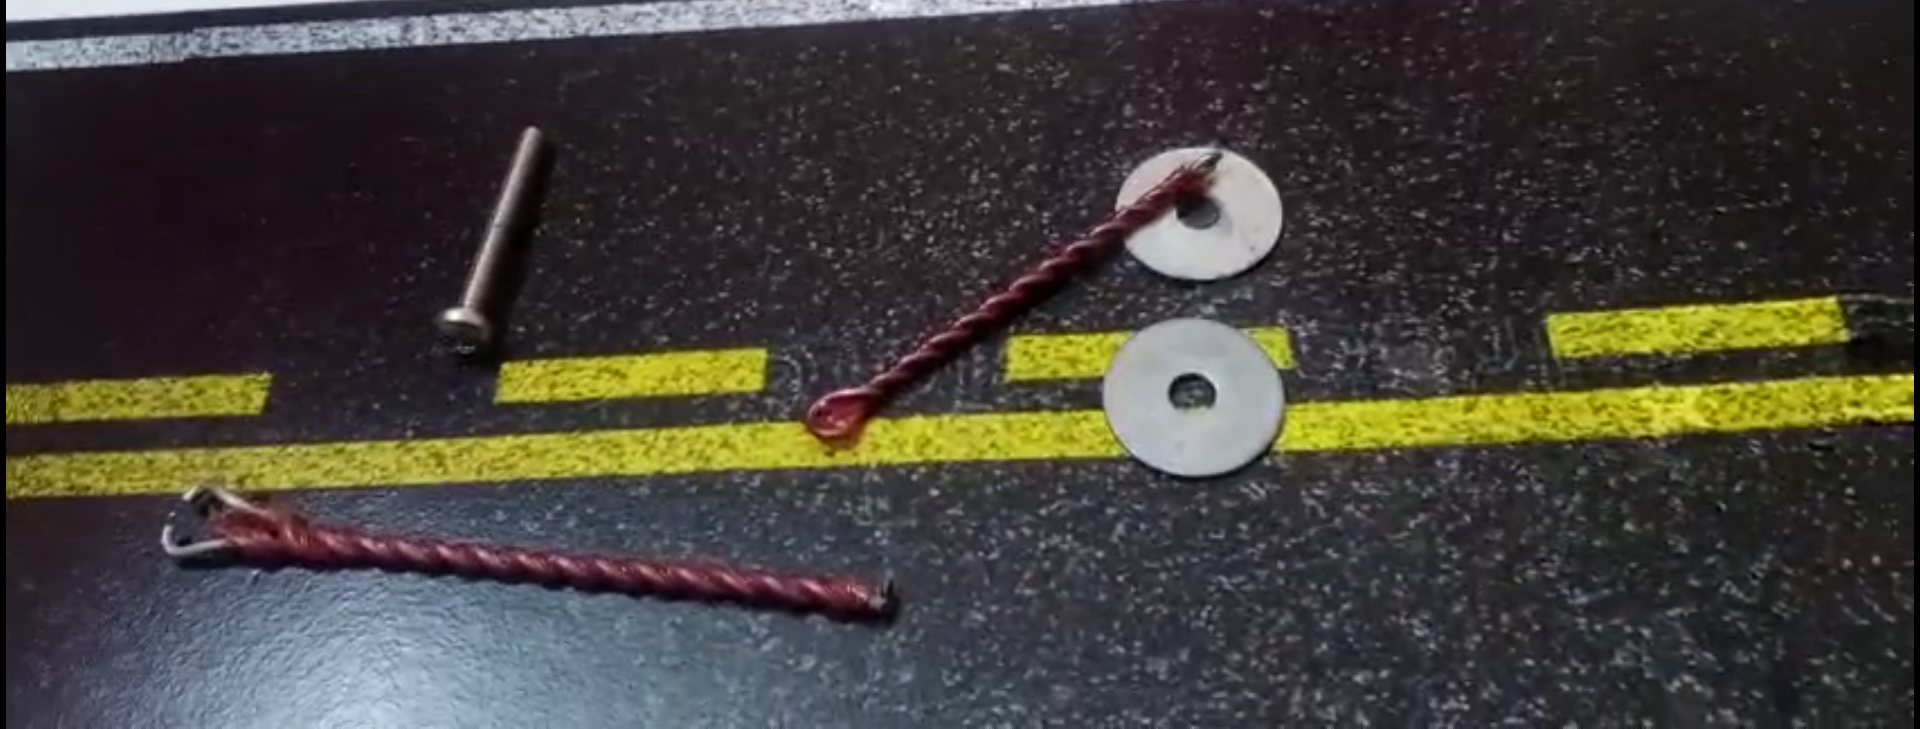metal: (800, 125, 1233, 459), (138, 478, 904, 629), (1100, 310, 1284, 494), (422, 111, 542, 368), (1104, 134, 1291, 290)
